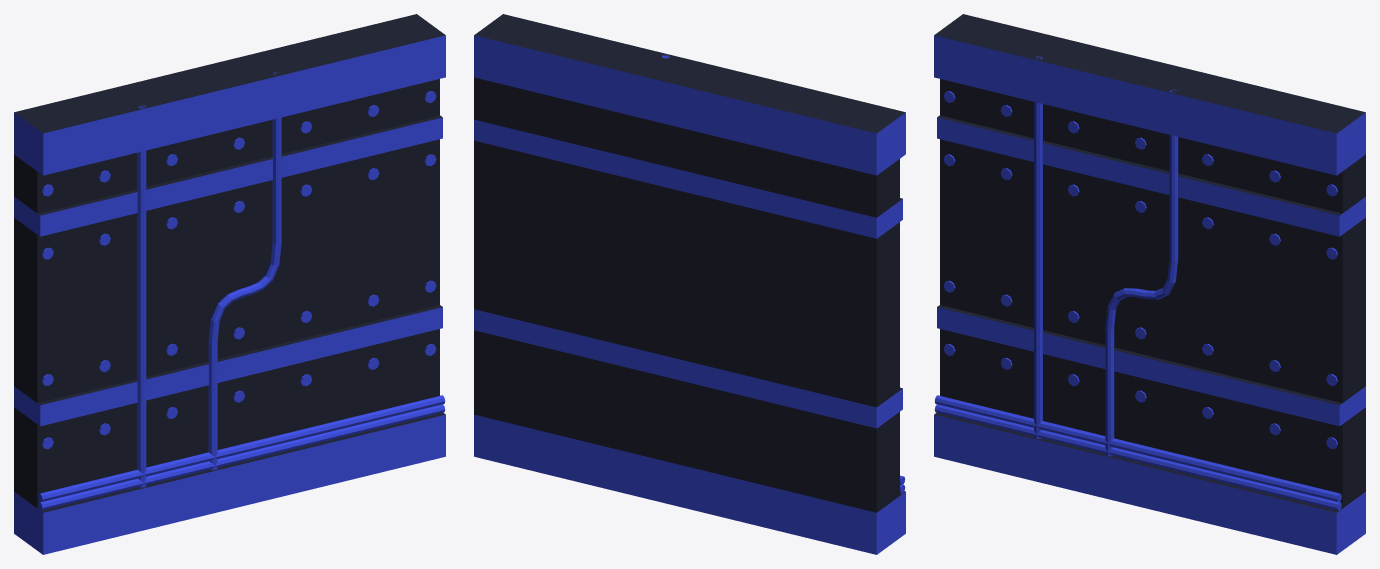
Rendered from Wall_D.fbx.
3 views of the same model, side by side, from view 1: azimuth 30°, elevation 25°; view 2: azimuth 150°, elevation 25°; view 3: azimuth 330°, elevation 25° (orthographic).
Parts seen in each view (by area): view 1: Wall_D; view 2: Wall_D; view 3: Wall_D.
Part boxes in pixels (bbox=[...]): Wall_D: bbox=[14, 14, 445, 554]; Wall_D: bbox=[474, 14, 905, 554]; Wall_D: bbox=[934, 14, 1365, 554].
Size of the model in its own units: 200 by 200 by 25.
